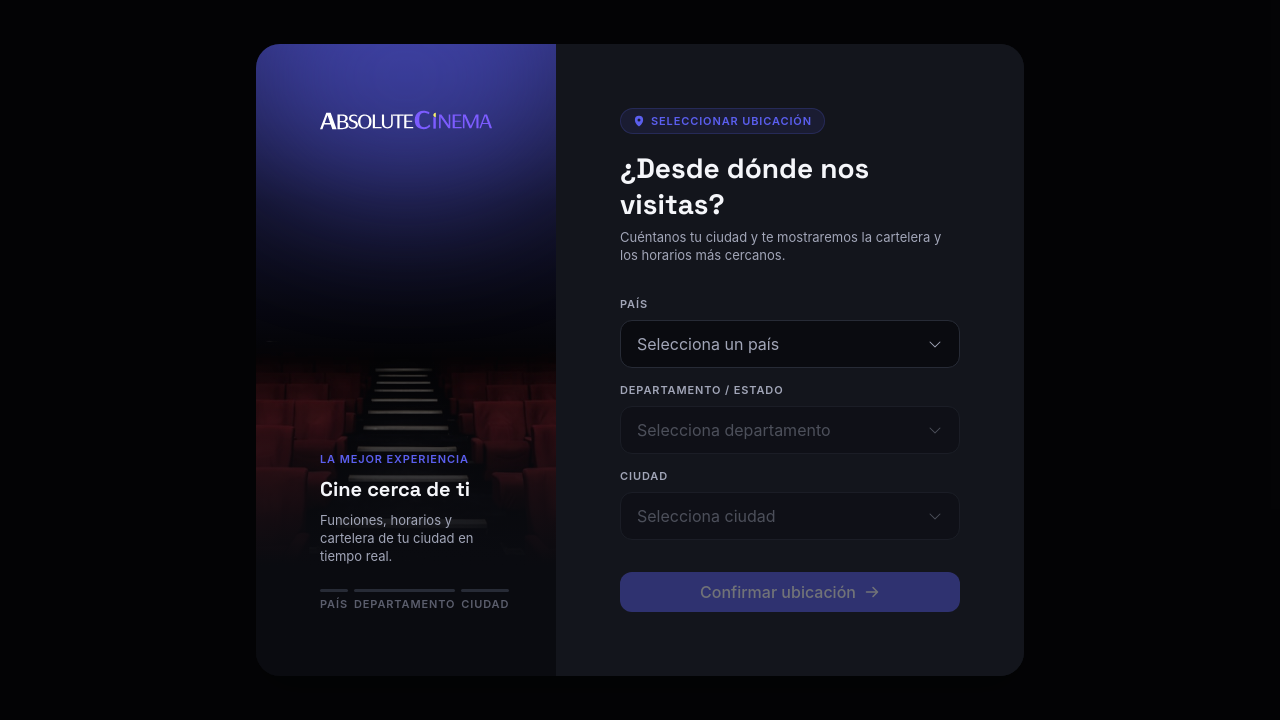
Test case: LocationWizardModal › shows an empty state when the department has no cities
Click the dropdown labelled "país" at (708, 344), box [620,320,960,368]
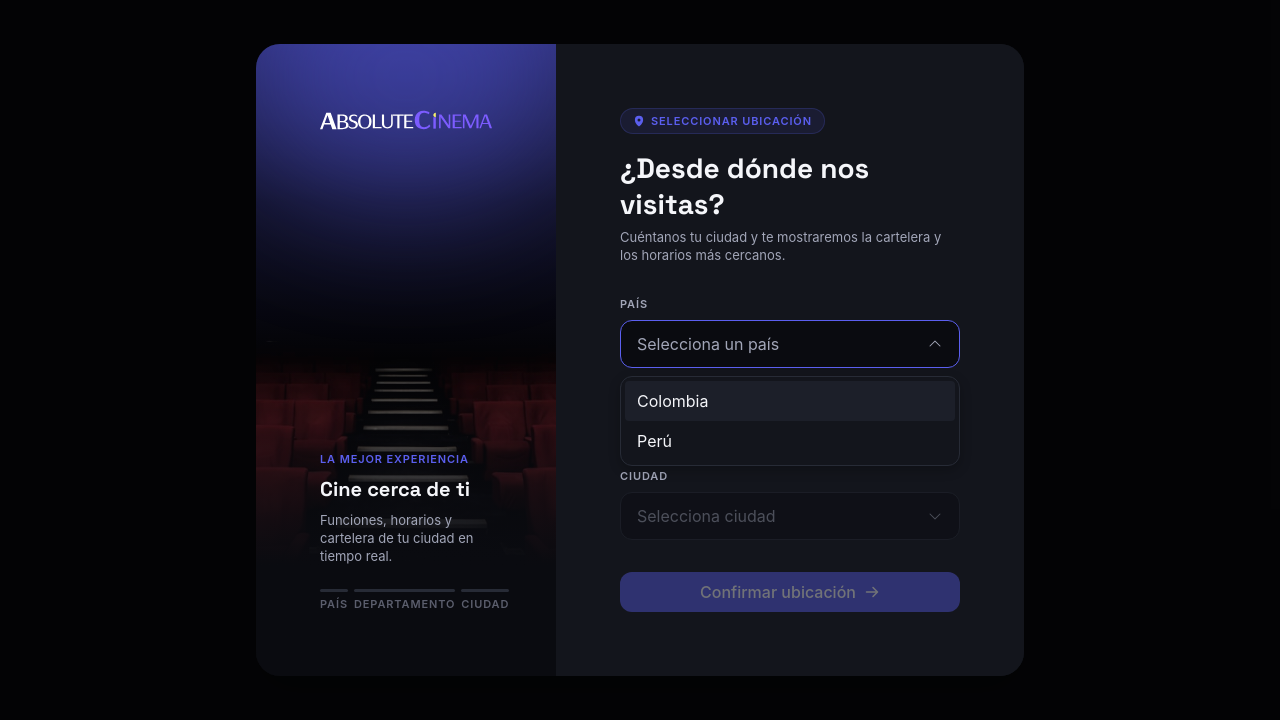
Click the option "Colombia" at (673, 401), box [625,381,955,421]
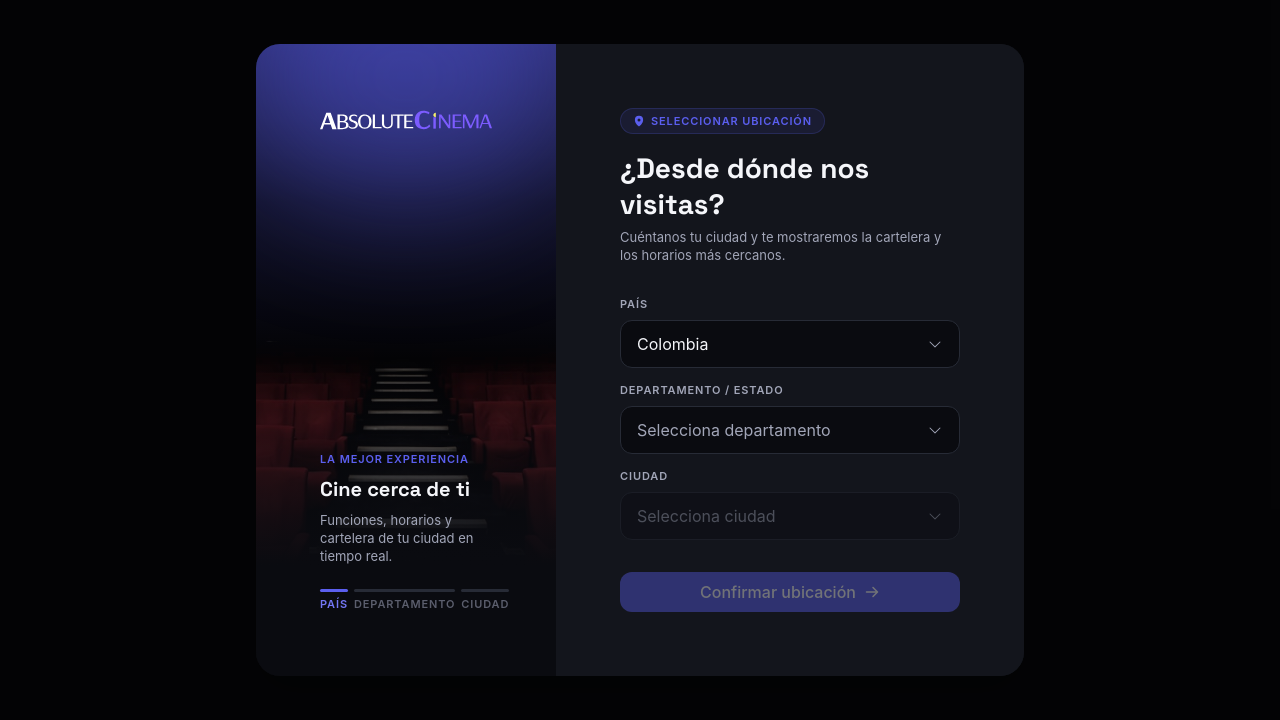
Expected: the dropdown named "Departamento / Estado" is enabled
Click the dropdown named "Departamento / Estado" at (790, 430), box [620,406,960,454]
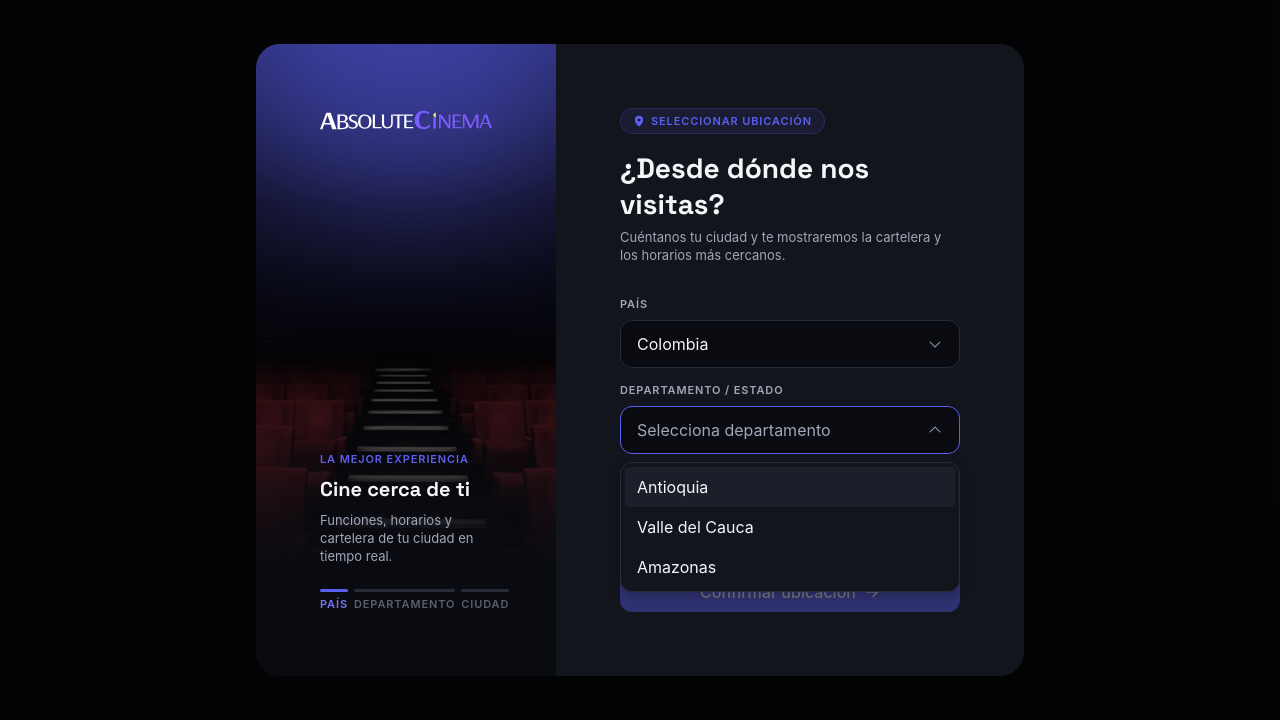
Click the option "Amazonas" at (677, 567), box [637,557,716,577]
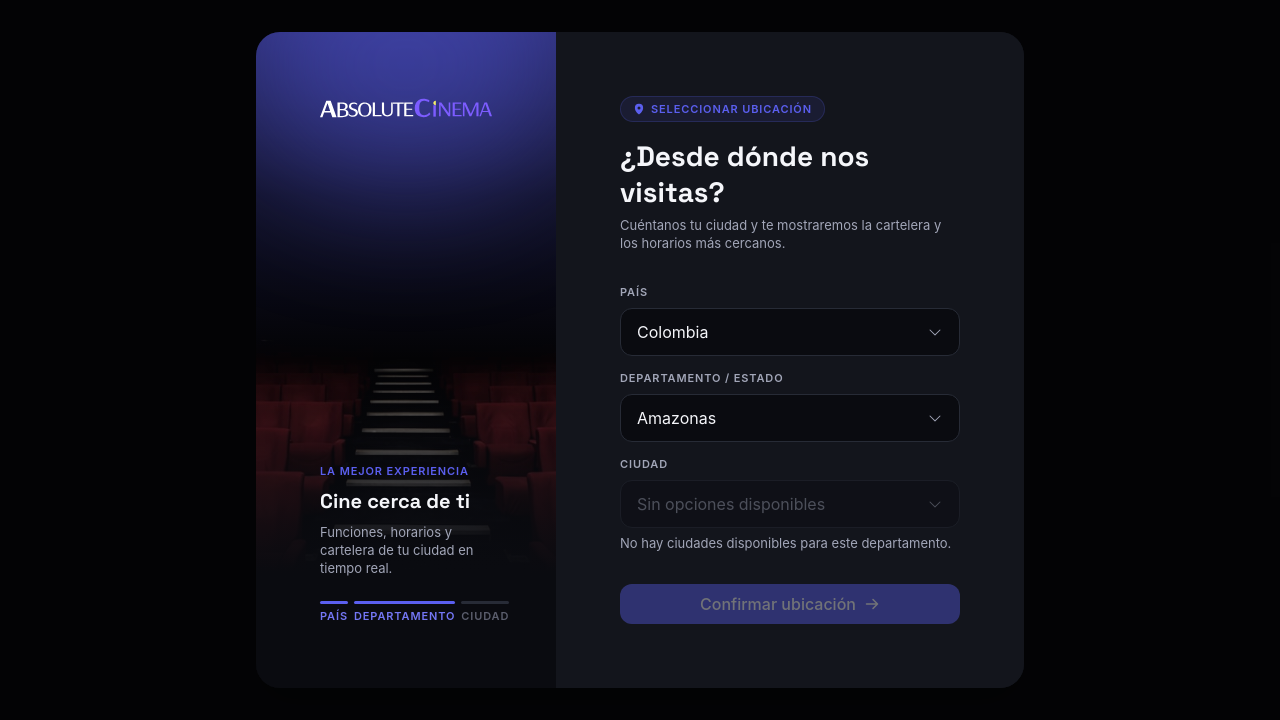
Expected: the dropdown named "Ciudad" is disabled, [620,480,960,528]
Expected: the text "No hay ciudades disponibles para este departamento." is shown, [620,534,960,552]
